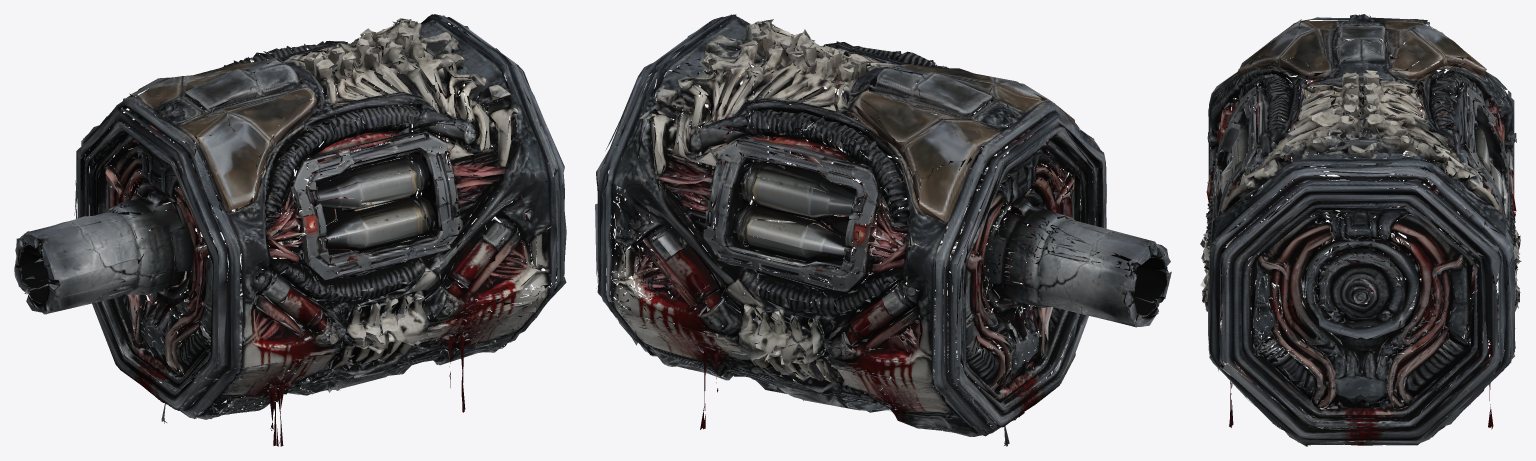
Rendered from tank_orbital_siege_cannon.glb.
3 views of the same model, side by side, from view 1: azimuth 30°, elevation 25°; view 2: azimuth 150°, elevation 25°; view 3: azimuth 270°, elevation 25° (orthographic). The views are drawn at different scales.
Visible parts, largest first — view 1: node_0; view 2: node_0; view 3: node_0.
Part boxes in pixels (<box>): node_0: <box>14,14,566,446</box>; node_0: <box>595,14,1171,446</box>; node_0: <box>1200,14,1521,446</box>.
Size of the model in its own units: 1.05 by 0.7286 by 0.643.
1 material, 1 textured.
